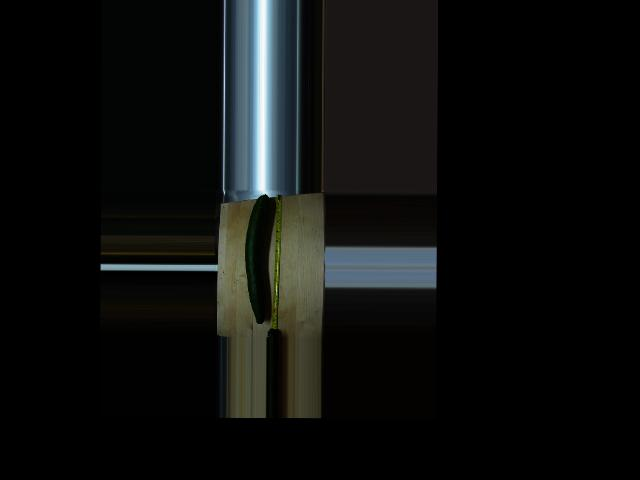cucumber: (245, 194, 270, 324)
